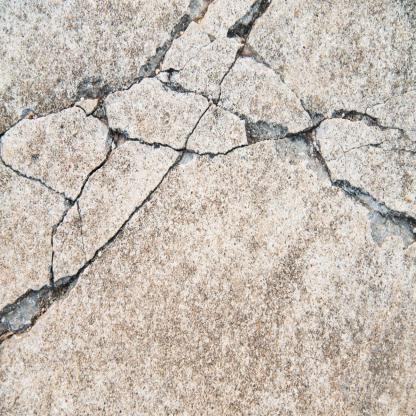network cracks: (0, 0, 415, 343)
